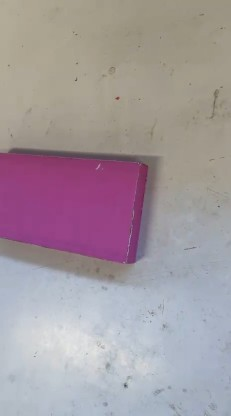pink: (0, 149, 151, 266)
